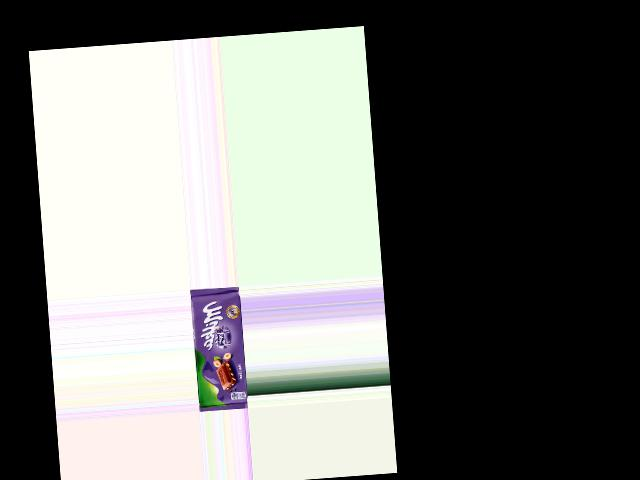chocolate: (190, 286, 249, 412)
